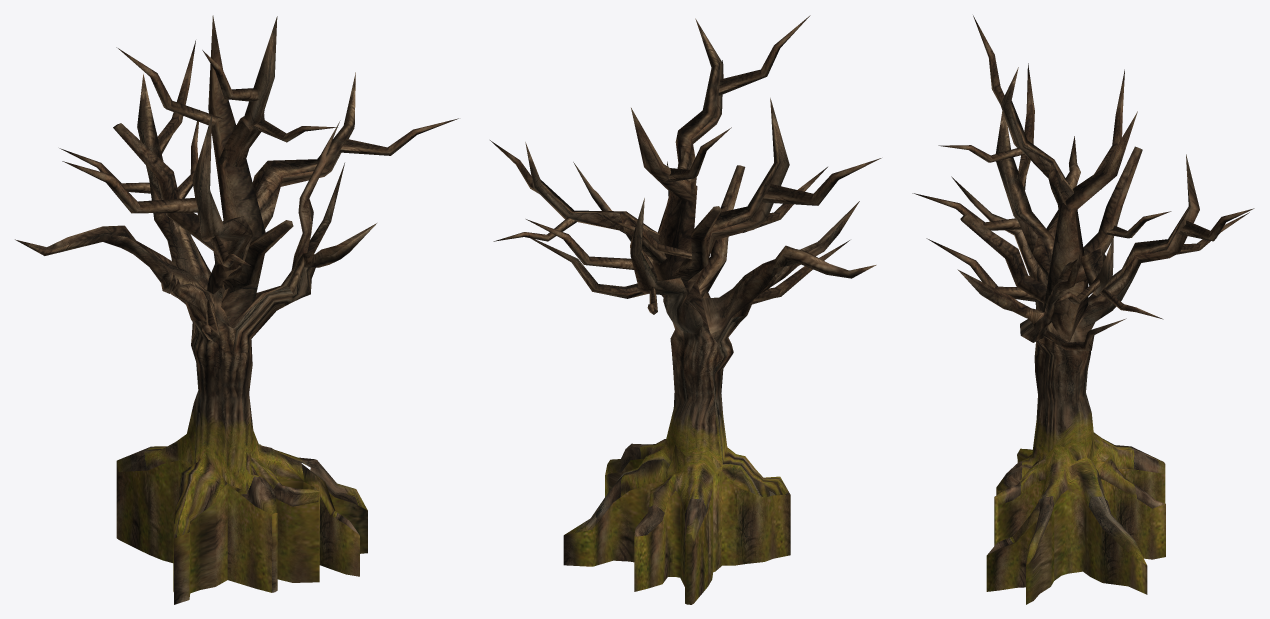
File: n_SWCdtree01.glb
3 renders of one model, left to right at view 1: azimuth 30°, elevation 25°; view 2: azimuth 150°, elevation 25°; view 3: azimuth 270°, elevation 25°, orthographic. The views are drawn at different scales.
Parts seen in each view (by area): view 1: n_SWCdtree01; view 2: n_SWCdtree01; view 3: n_SWCdtree01.
Part boxes in pixels (x1,y1,x2,y2): n_SWCdtree01: (15, 15, 458, 604); n_SWCdtree01: (490, 15, 881, 604); n_SWCdtree01: (912, 15, 1254, 604).
Bounding box in the file's own units: 8.89 × 11.18 × 6.89.
2 materials, 2 textured.
